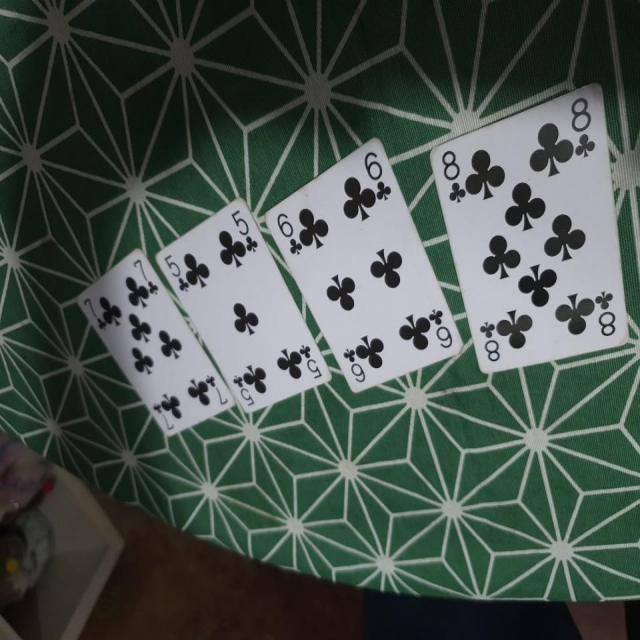5 Trefoils: (154, 194, 331, 418)
6 Trefoils: (262, 133, 463, 394)
7 Trefoils: (74, 243, 234, 438)
8 Trefoils: (429, 80, 632, 376)
